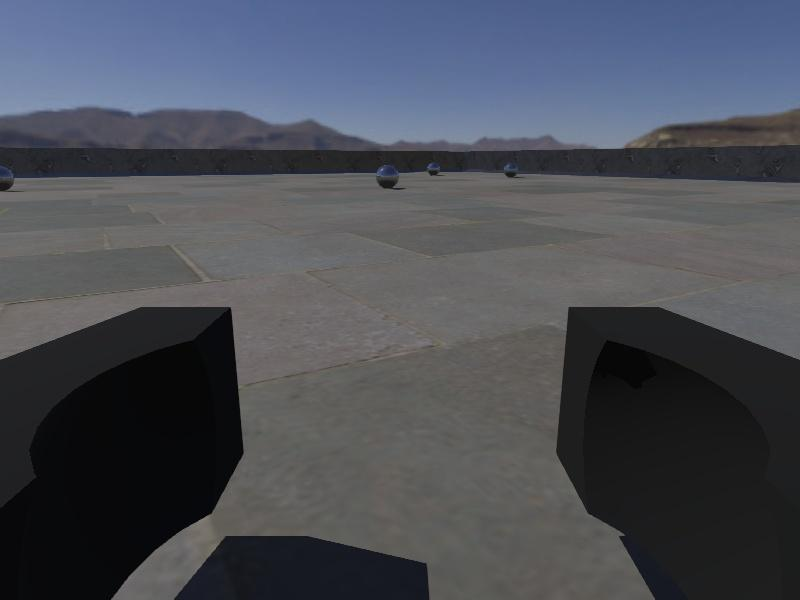steel ball: (375, 164, 399, 188), (425, 160, 442, 177), (503, 162, 519, 178)
